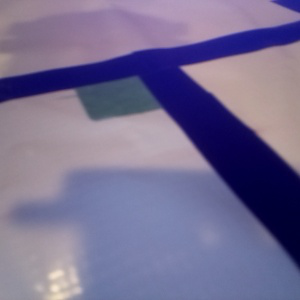bottom_left: (75, 66, 179, 120)
